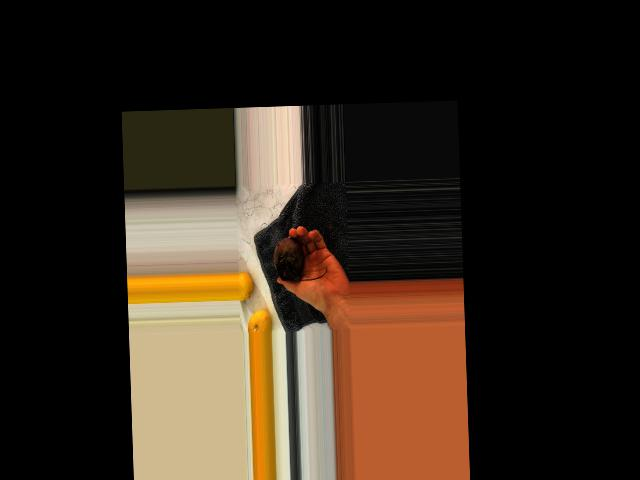beet: (272, 235, 327, 280)
